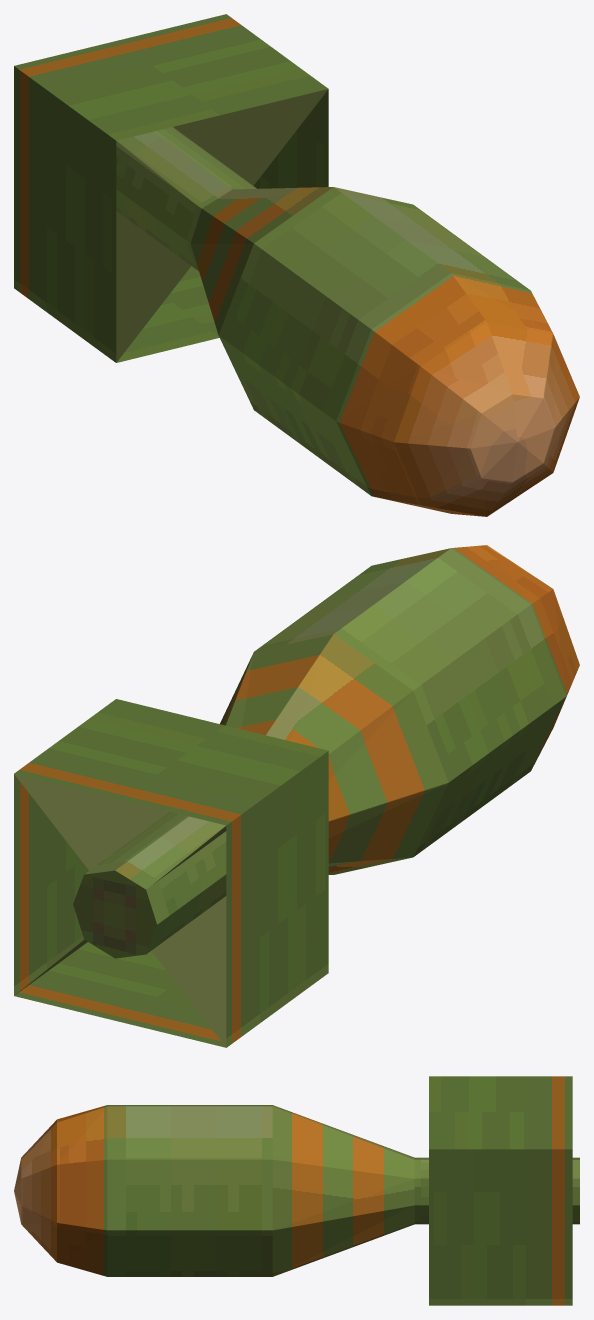
The model's file is WF_bomb.obj.
The picture shows the model from 3 angles, top to bottom: view 1: azimuth 30°, elevation 25°; view 2: azimuth 150°, elevation 25°; view 3: azimuth 270°, elevation 25°; orthographic projection. The views are drawn at different scales.
Parts seen in each view (by area): view 1: Node 0; view 2: Node 0; view 3: Node 0.
Part boxes in pixels (<box>): Node 0: <box>14,14,579,516</box>; Node 0: <box>14,545,579,1047</box>; Node 0: <box>14,1076,579,1305</box>.
Size of the model in its own units: 1.04 by 1.04 by 3.15.
1 material, 1 textured.
